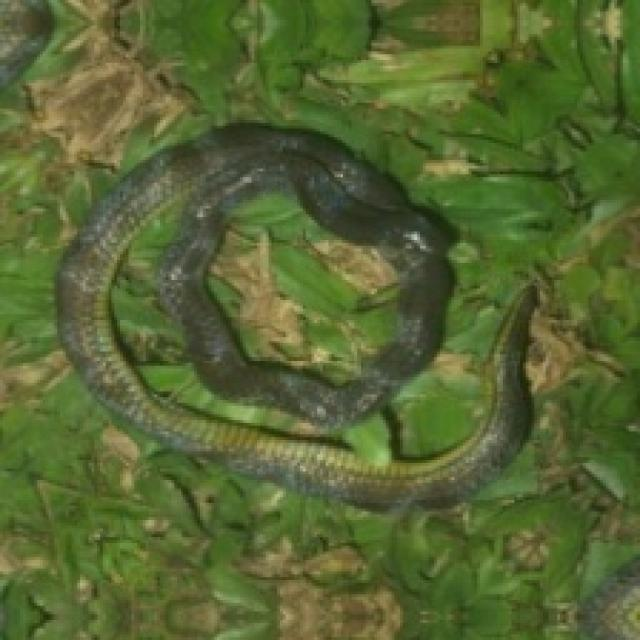gervais worm snake: (57, 126, 531, 506)
